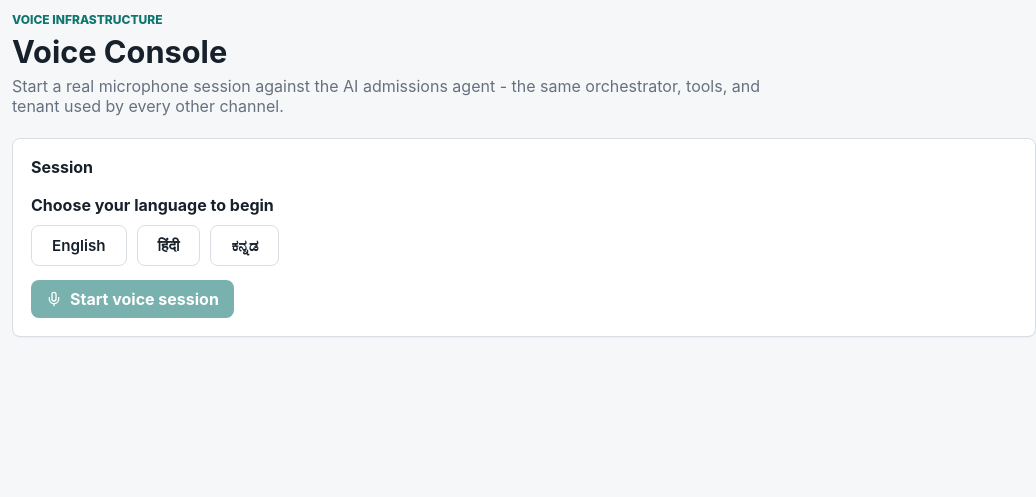
VoiceConsole - mock vs live labeling › labels a livekit-provider session as LIVE and connects through the LiveKit wrapper
Click the radio button labelled "English".
click(79, 246)  # box [31, 225, 127, 266]
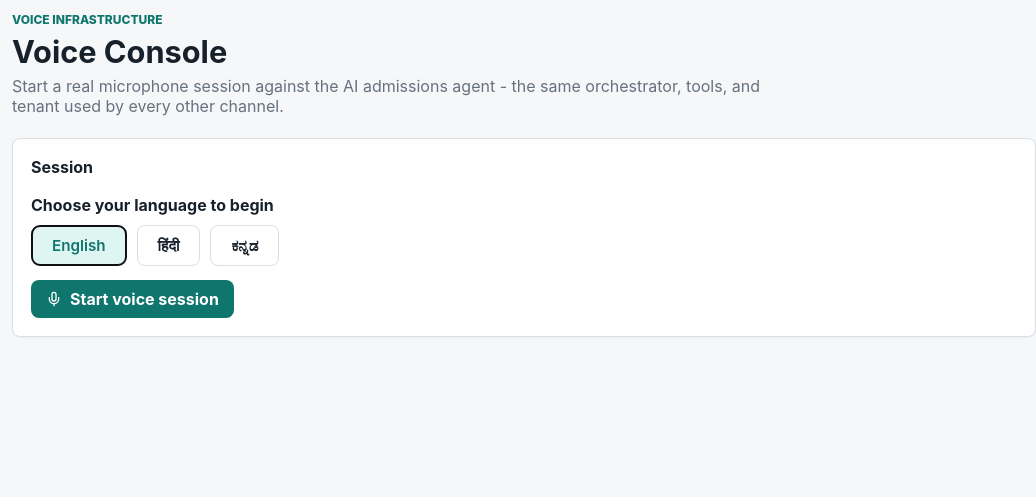
Now the button "Start voice session" is enabled
Click the button "Start voice session".
click(132, 299)  # box [31, 280, 234, 318]
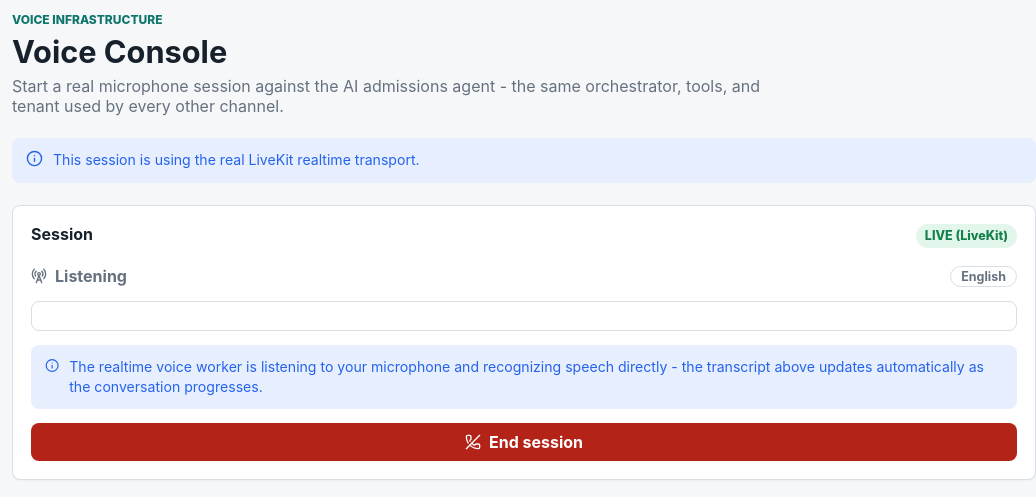
Now the text "LIVE (LiveKit)" is shown, box [916, 224, 1017, 248]
